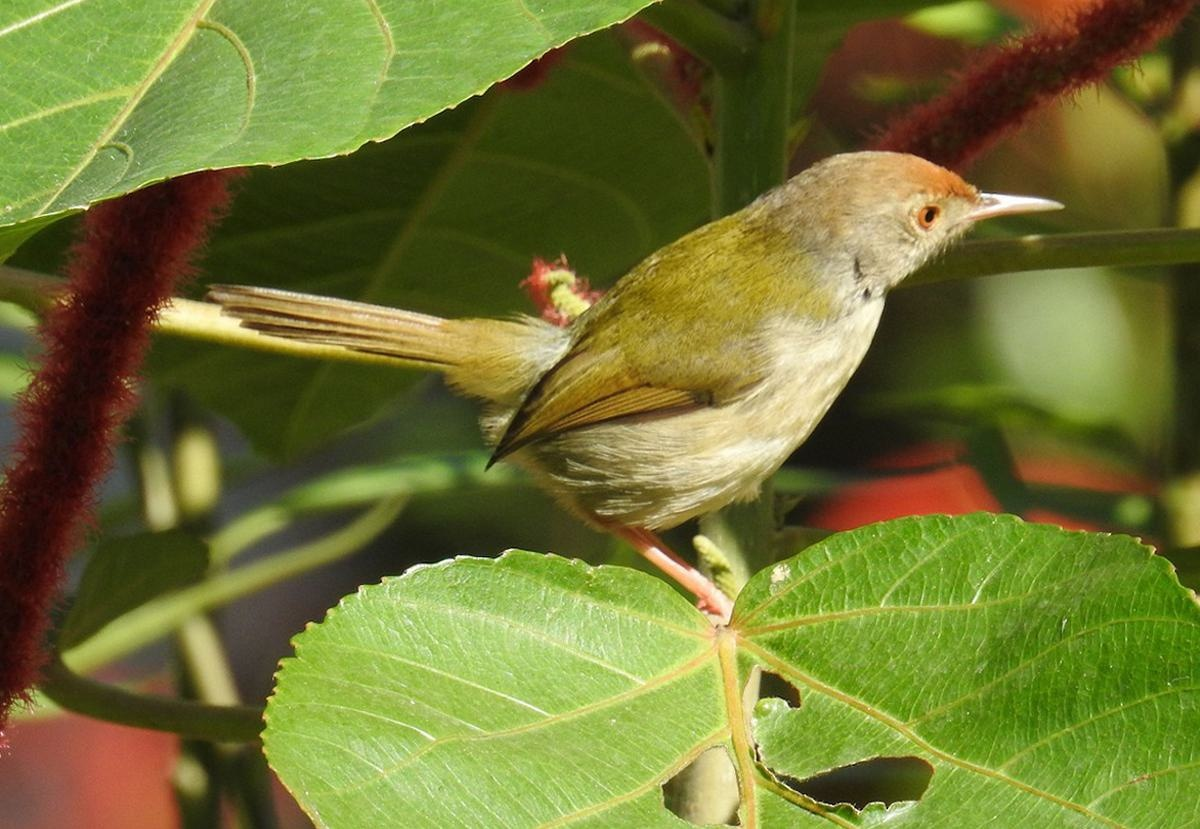tailorbird: (214, 140, 1050, 578)
